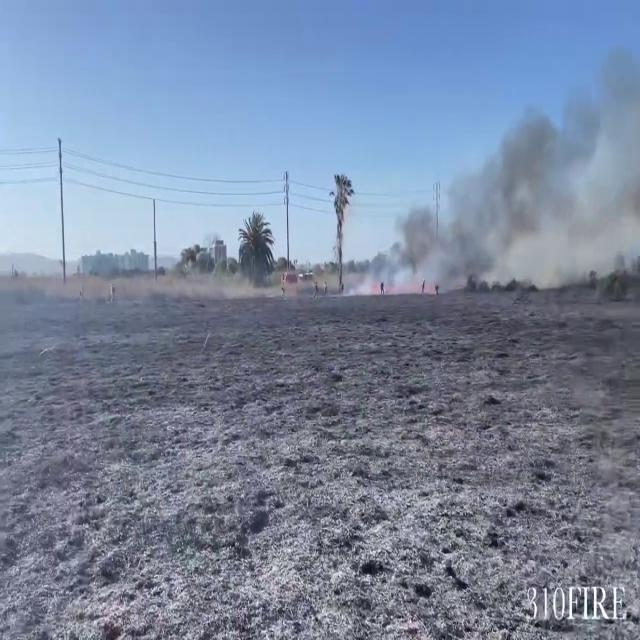Smoke: (359, 51, 640, 302)
